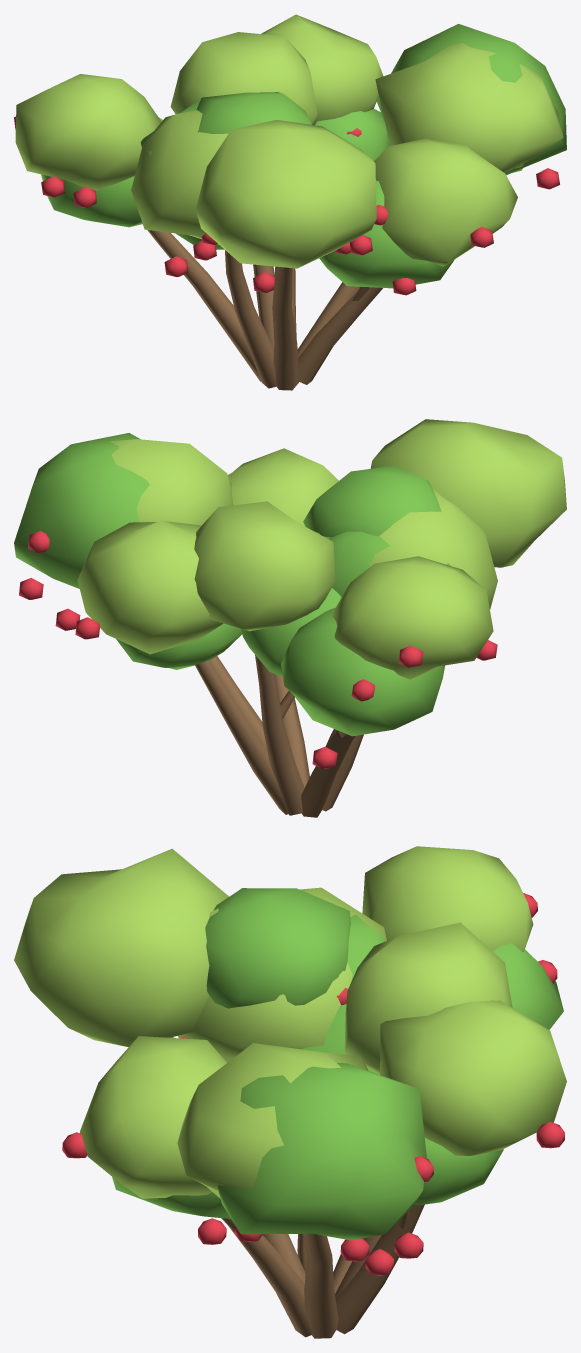
File: Bush_D_Berry.fbx
The picture shows the model from 3 angles, top to bottom: view 1: azimuth 30°, elevation 25°; view 2: azimuth 150°, elevation 25°; view 3: azimuth 270°, elevation 25°; orthographic projection. The views are drawn at different scales.
Visible parts, largest first — view 1: Bush_D_Berry; view 2: Bush_D_Berry; view 3: Bush_D_Berry.
Part boxes in pixels (bbox=[...]): Bush_D_Berry: bbox=[14, 14, 566, 390]; Bush_D_Berry: bbox=[14, 419, 566, 817]; Bush_D_Berry: bbox=[14, 846, 566, 1338].
Bounding box in the file's own units: 1.86 × 1.21 × 1.48.
